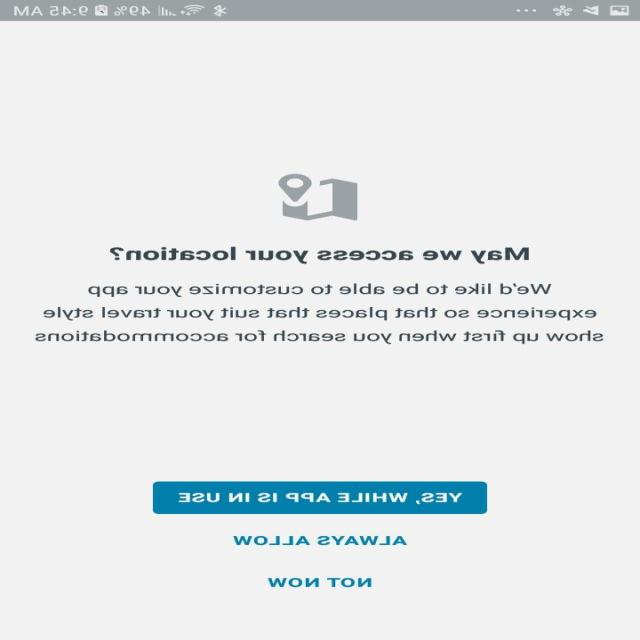Icon: (278, 174, 358, 220)
Text: (36, 283, 604, 345), (110, 246, 530, 264), (234, 535, 408, 545), (268, 577, 372, 587)
TextButton: (153, 480, 488, 514)
